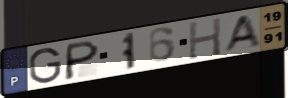1: (120, 30, 138, 72)
6: (148, 25, 178, 68)
A: (221, 12, 263, 54)
G: (27, 46, 63, 85)
H: (187, 16, 223, 61)
P: (62, 38, 101, 82)
